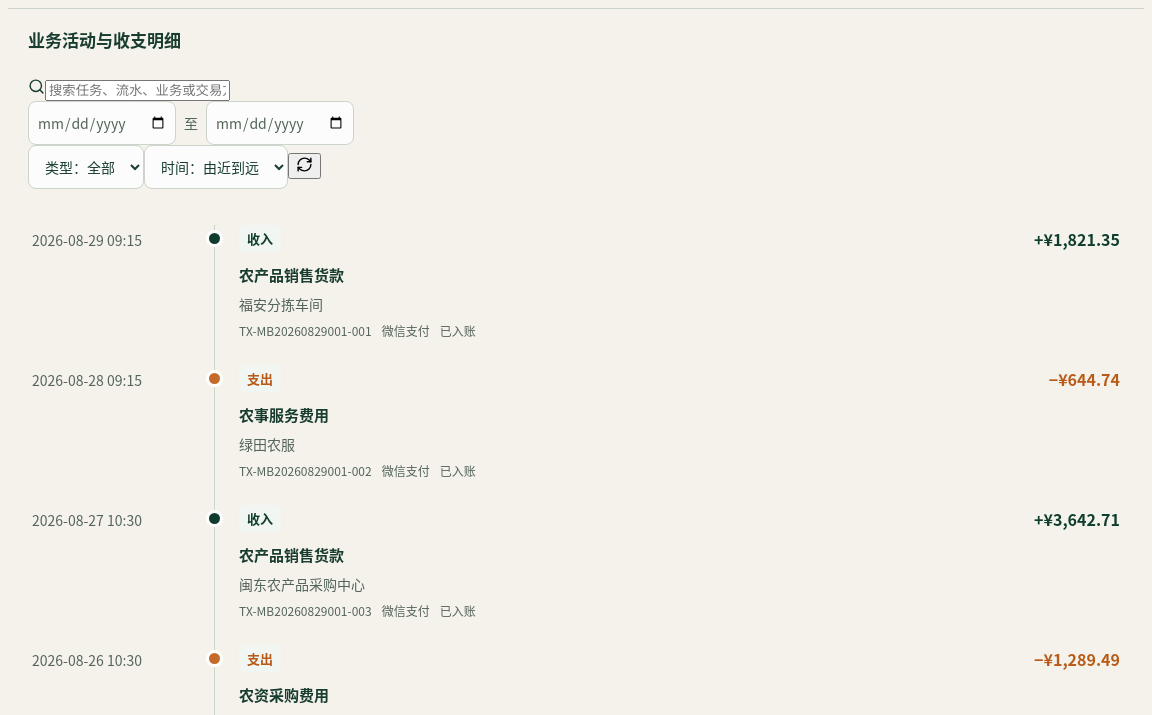
Test: 会员收支列表交互 › 支持单边日期和同一天，反向日期给出提示
In the date field named "收支结束日期": (280, 123) [206,101,354,145], type "2026-08-07"
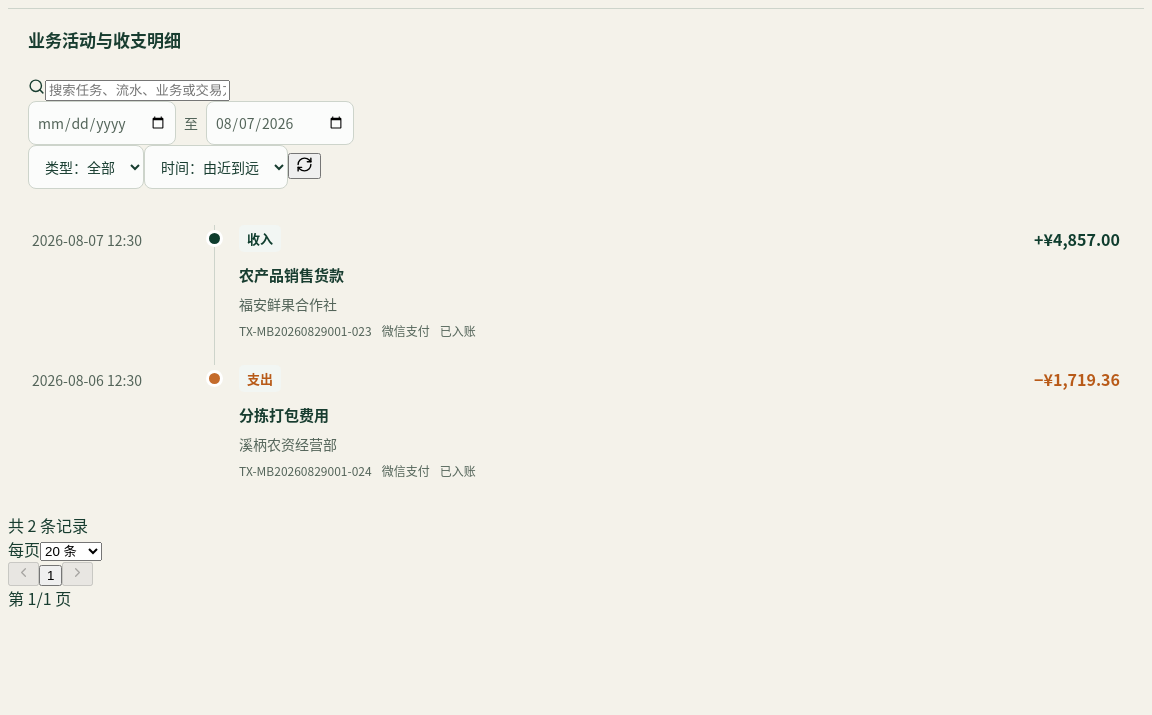
Now the number of list items is 2, box [32,225,1120,365]; [32,365,1120,505]
In the date field named "收支开始日期": (102, 123) [28,101,176,145], type "2026-08-07"
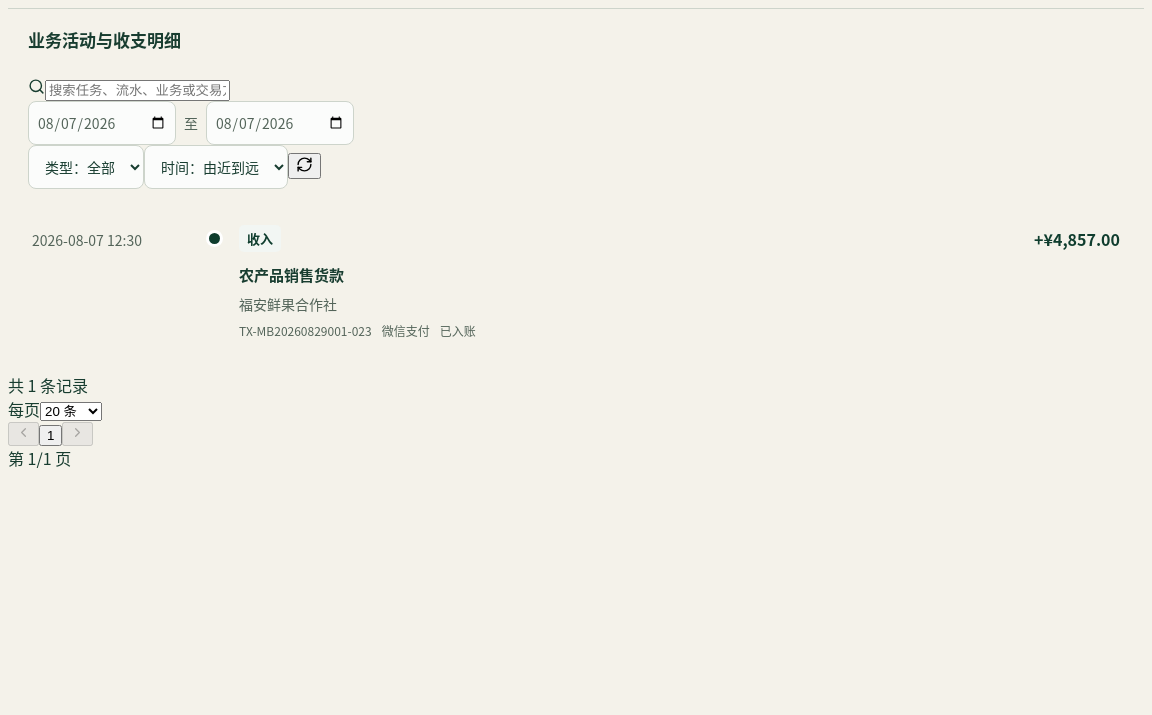
Now the number of list items is 1, box [32,225,1120,365]
In the date field named "收支开始日期": (102, 123) [28,101,176,145], type "2026-08-08"
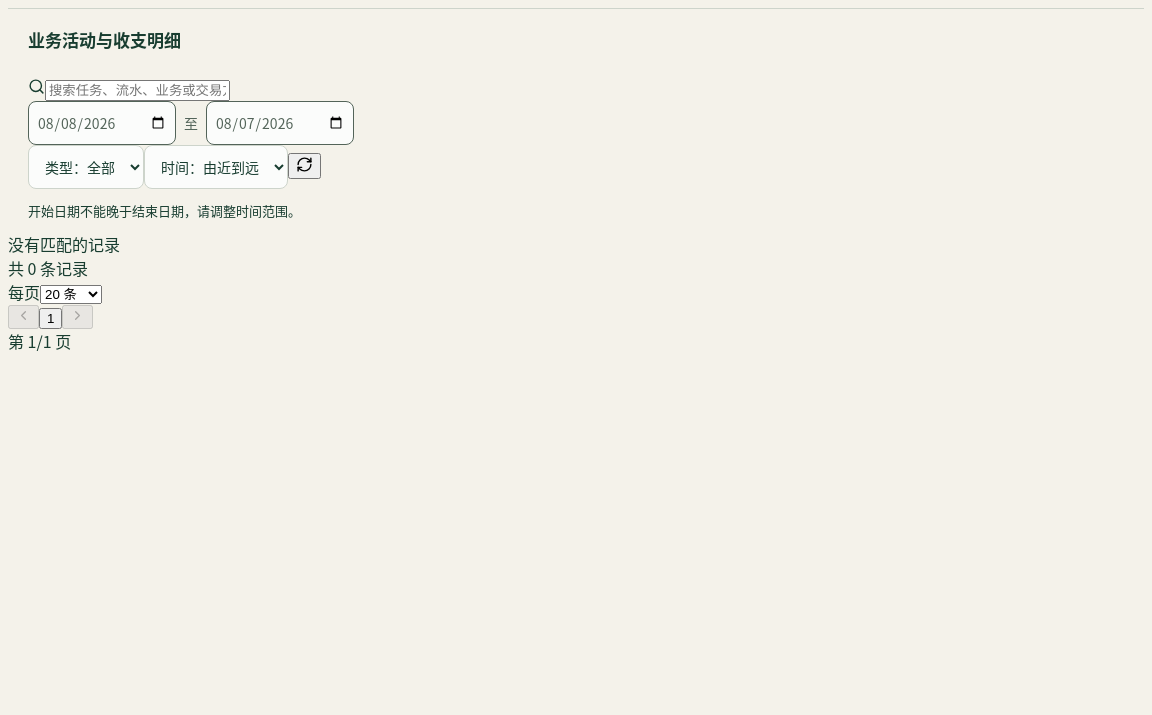
Now the message shows "开始日期不能晚于结束日期", box [28,201,301,220]
Click the button named "重置收支筛选": (304, 166) [288,153,321,179]
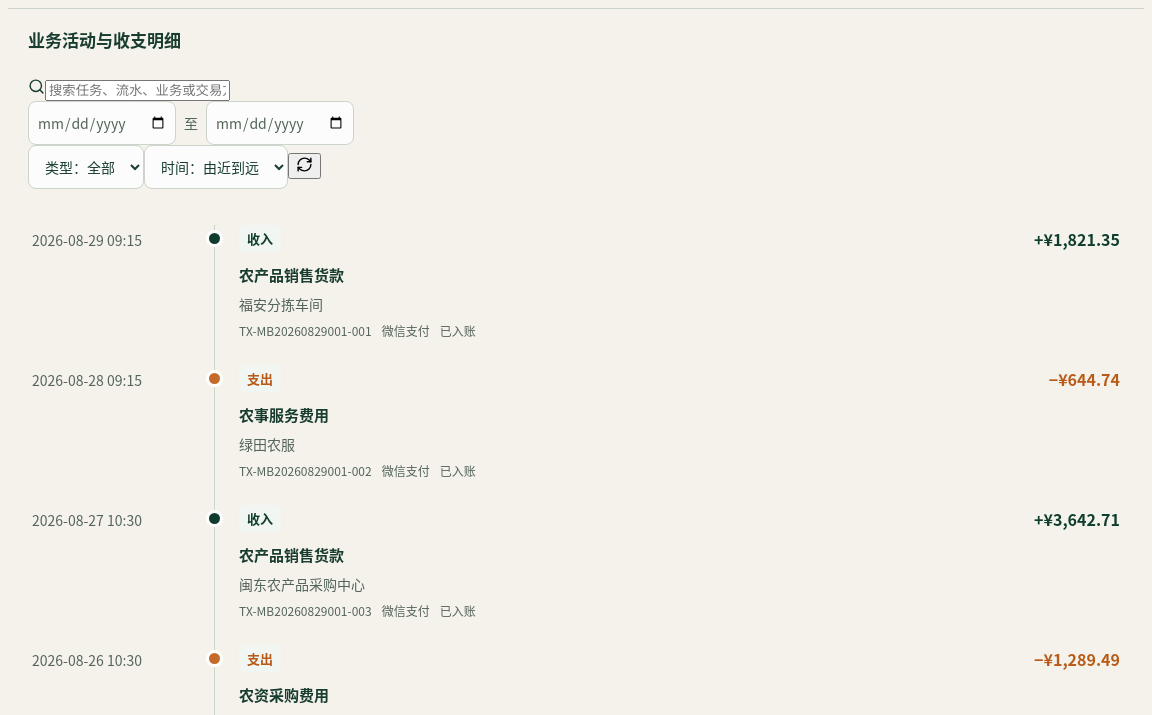
Now the message "开始日期不能晚于结束日期，请调整时间范围。" is gone
